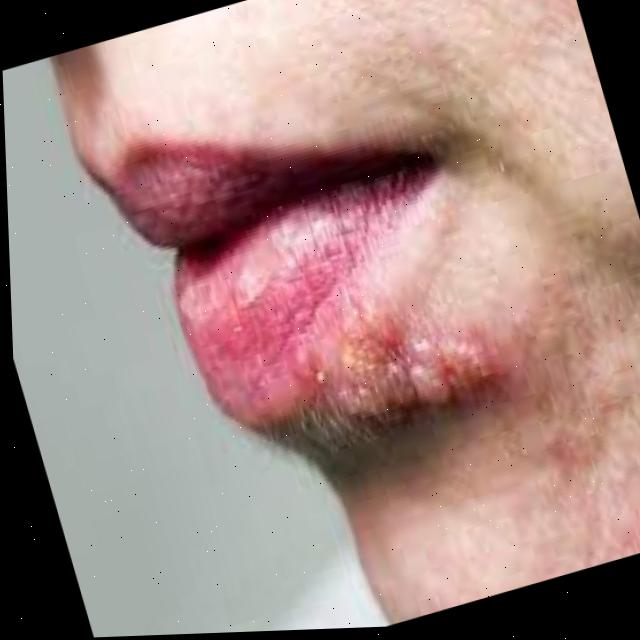Shingles: (323, 290, 513, 446)
